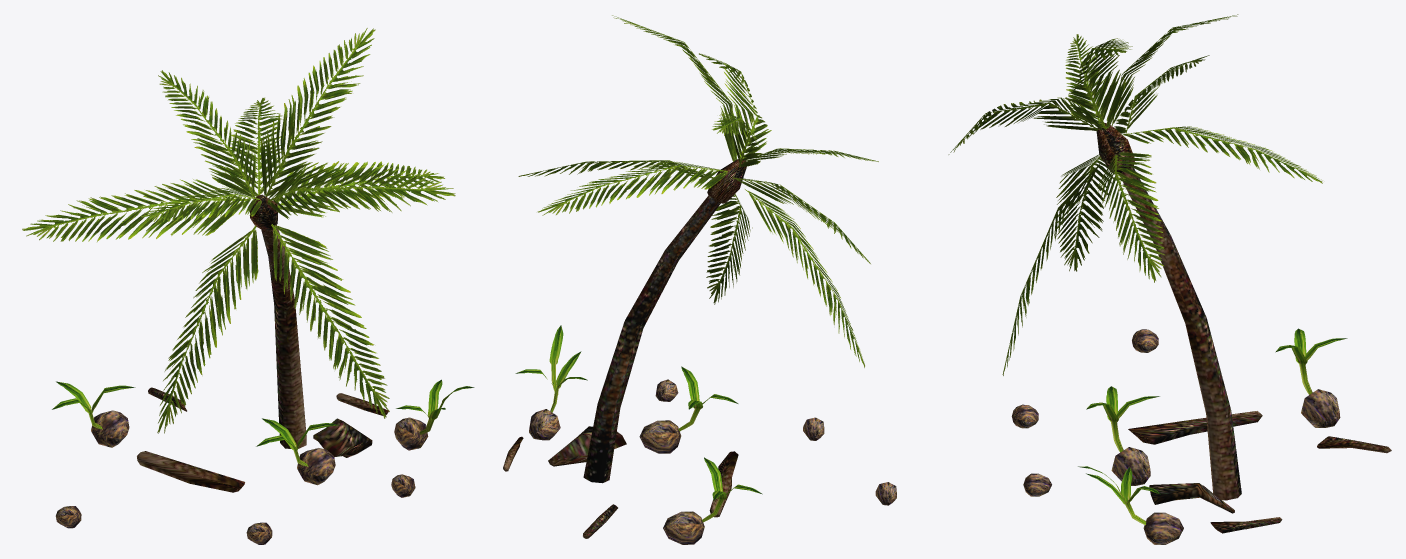
The model's file is cocopalm3.dae.
The picture shows the model from 3 angles, left to right: view 1: azimuth 30°, elevation 25°; view 2: azimuth 150°, elevation 25°; view 3: azimuth 270°, elevation 25°; orthographic projection. The views are drawn at different scales.
Visible parts, largest first — view 1: Cube; view 2: Cube; view 3: Cube.
Boxes of the visible parts, <box> form: Cube: <box>22,28,474,544</box>; Cube: <box>503,15,896,544</box>; Cube: <box>948,14,1391,544</box>.
Size of the model in its own units: 5.31 by 5.12 by 5.62.
3 materials, 3 textured.
